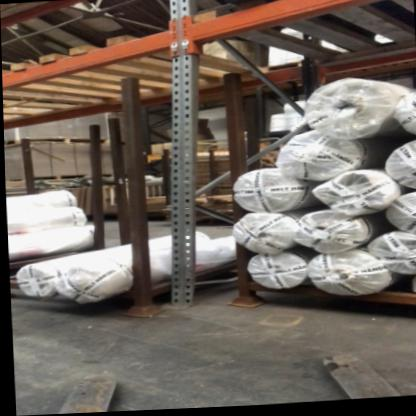vertical_damage: (154, 285, 203, 321)
